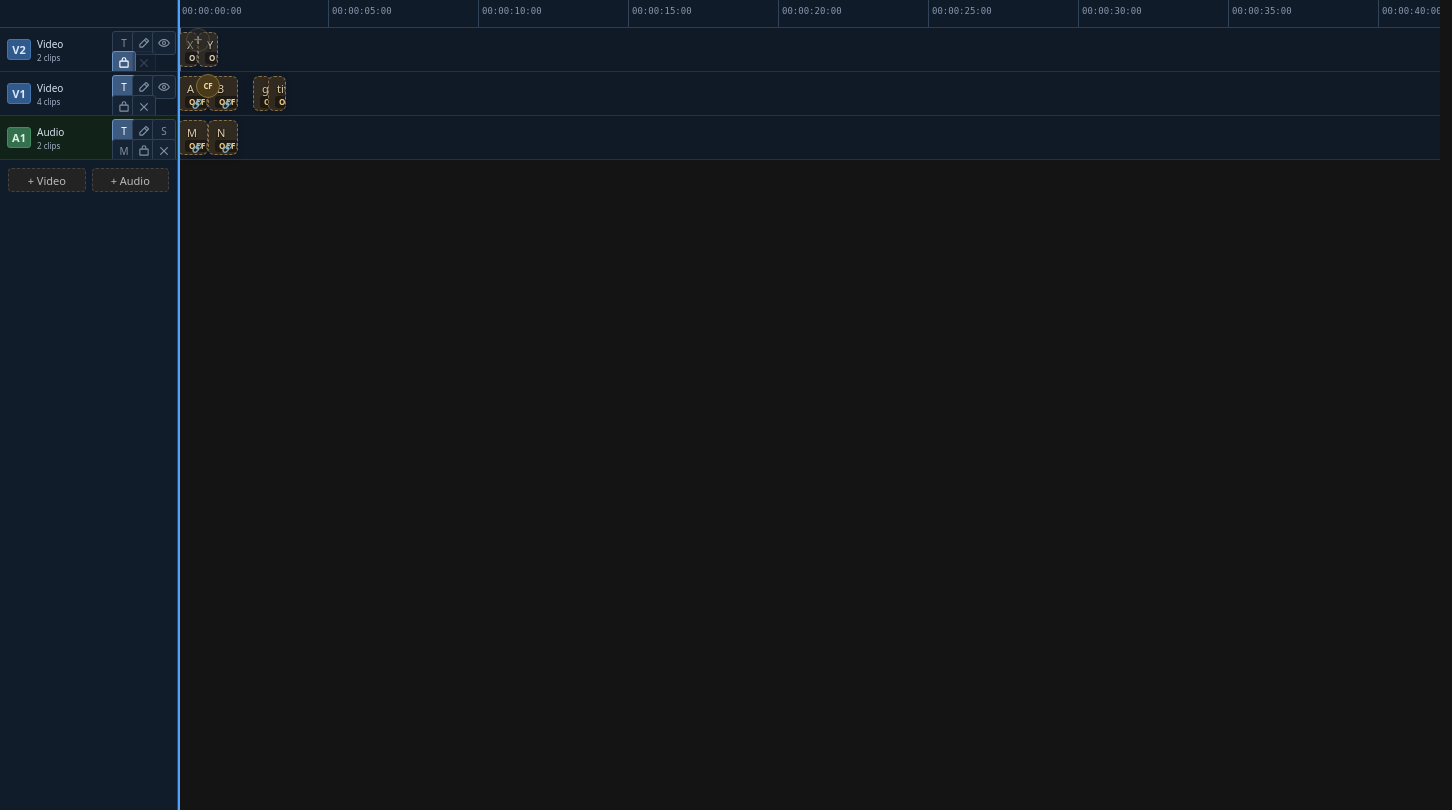
timeline crossfade controls › reports exact linked-audio availability from aligned partners
The image size is (1452, 810).
Click the button with test id "transition-toggle-t1" at (208, 86), box 196,74 -> 220,98
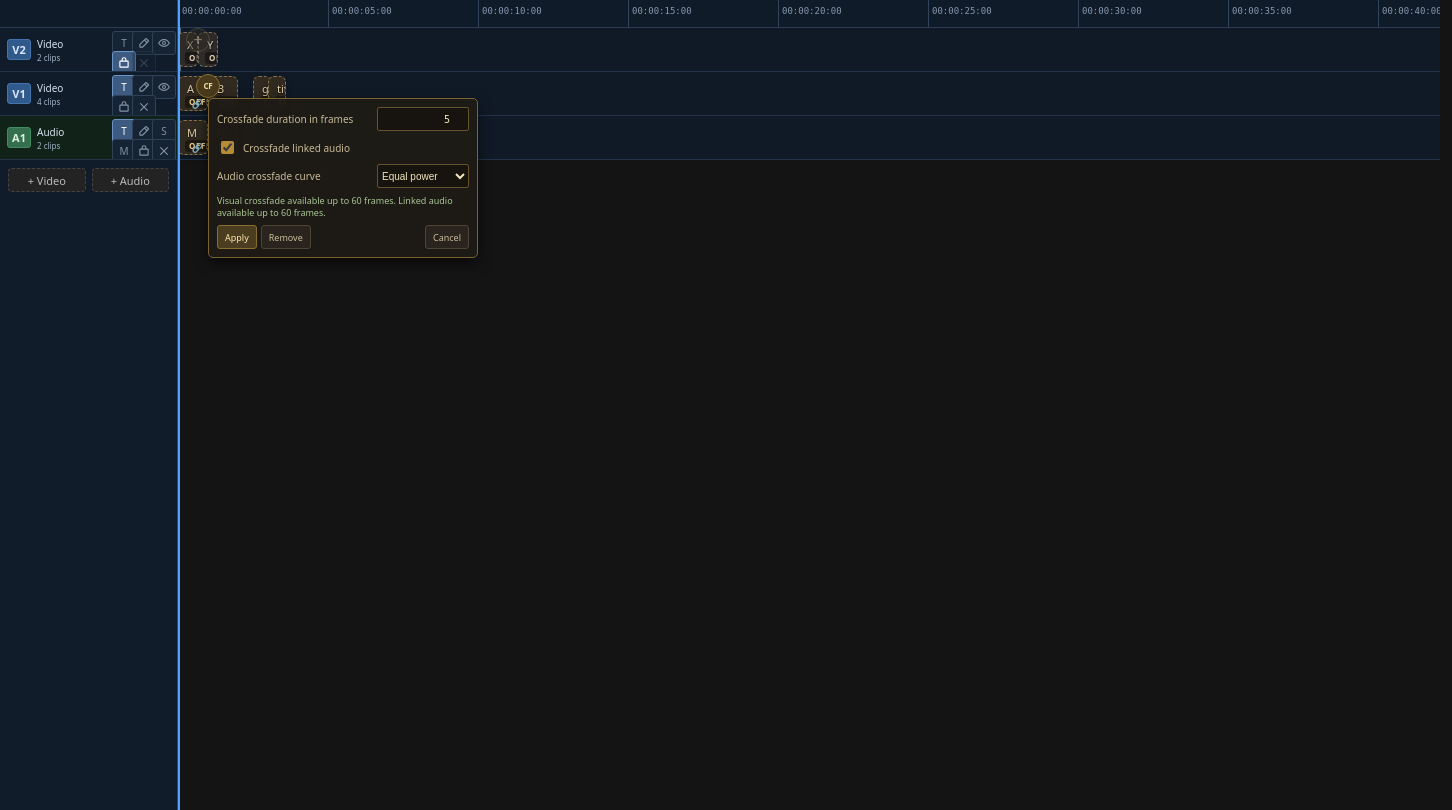
Check: the message shows "Linked audio available up to 60 frames.", box 217,194 -> 453,219
Check: the checkbox labelled "Crossfade linked audio" is checked
Click the checkbox labelled "Crossfade linked audio" at (228, 148), box 221,141 -> 234,154
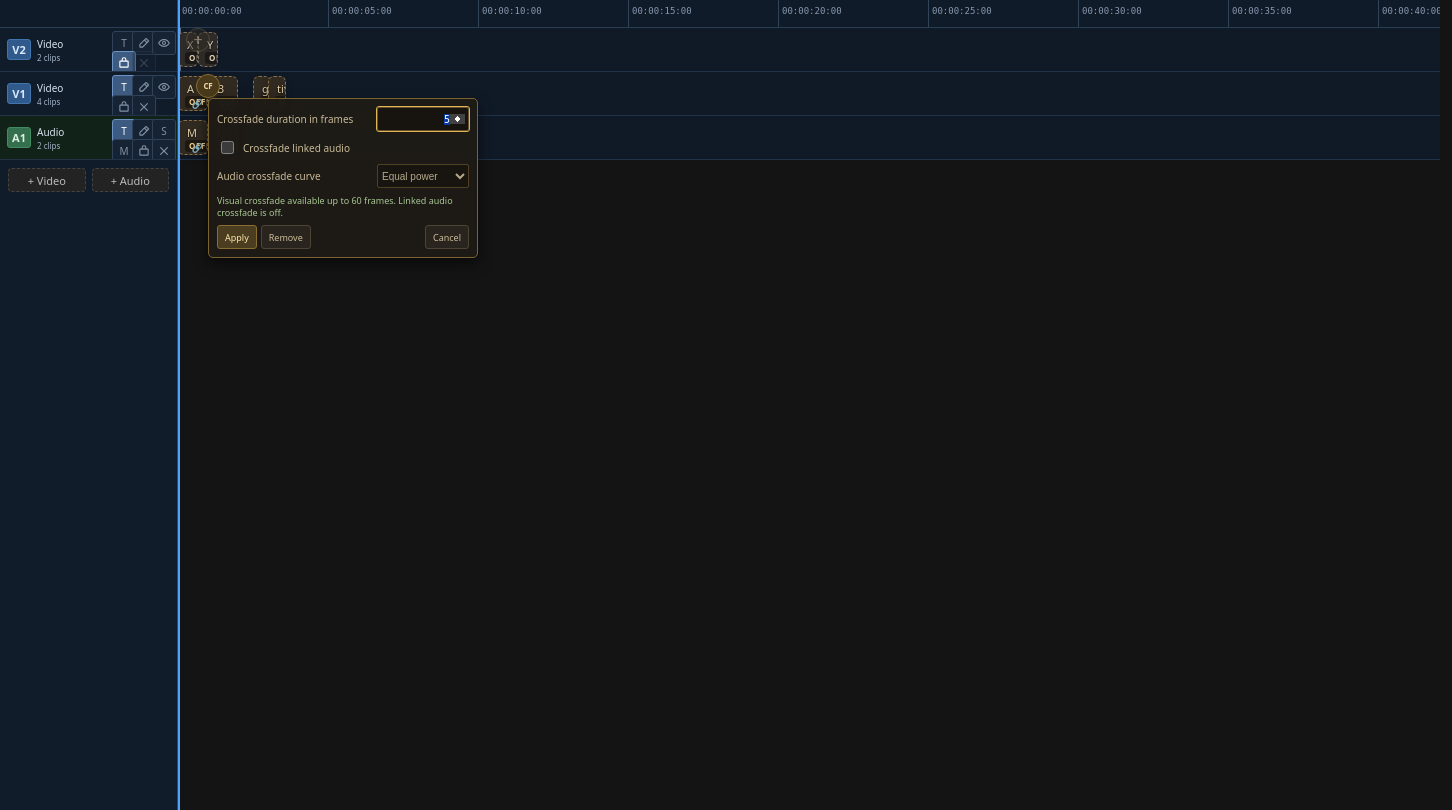
Check: the message shows "Linked audio crossfade is off.", box 217,194 -> 453,219
Check: the dropdown labelled "Audio crossfade curve" is disabled, box 377,164 -> 469,188
